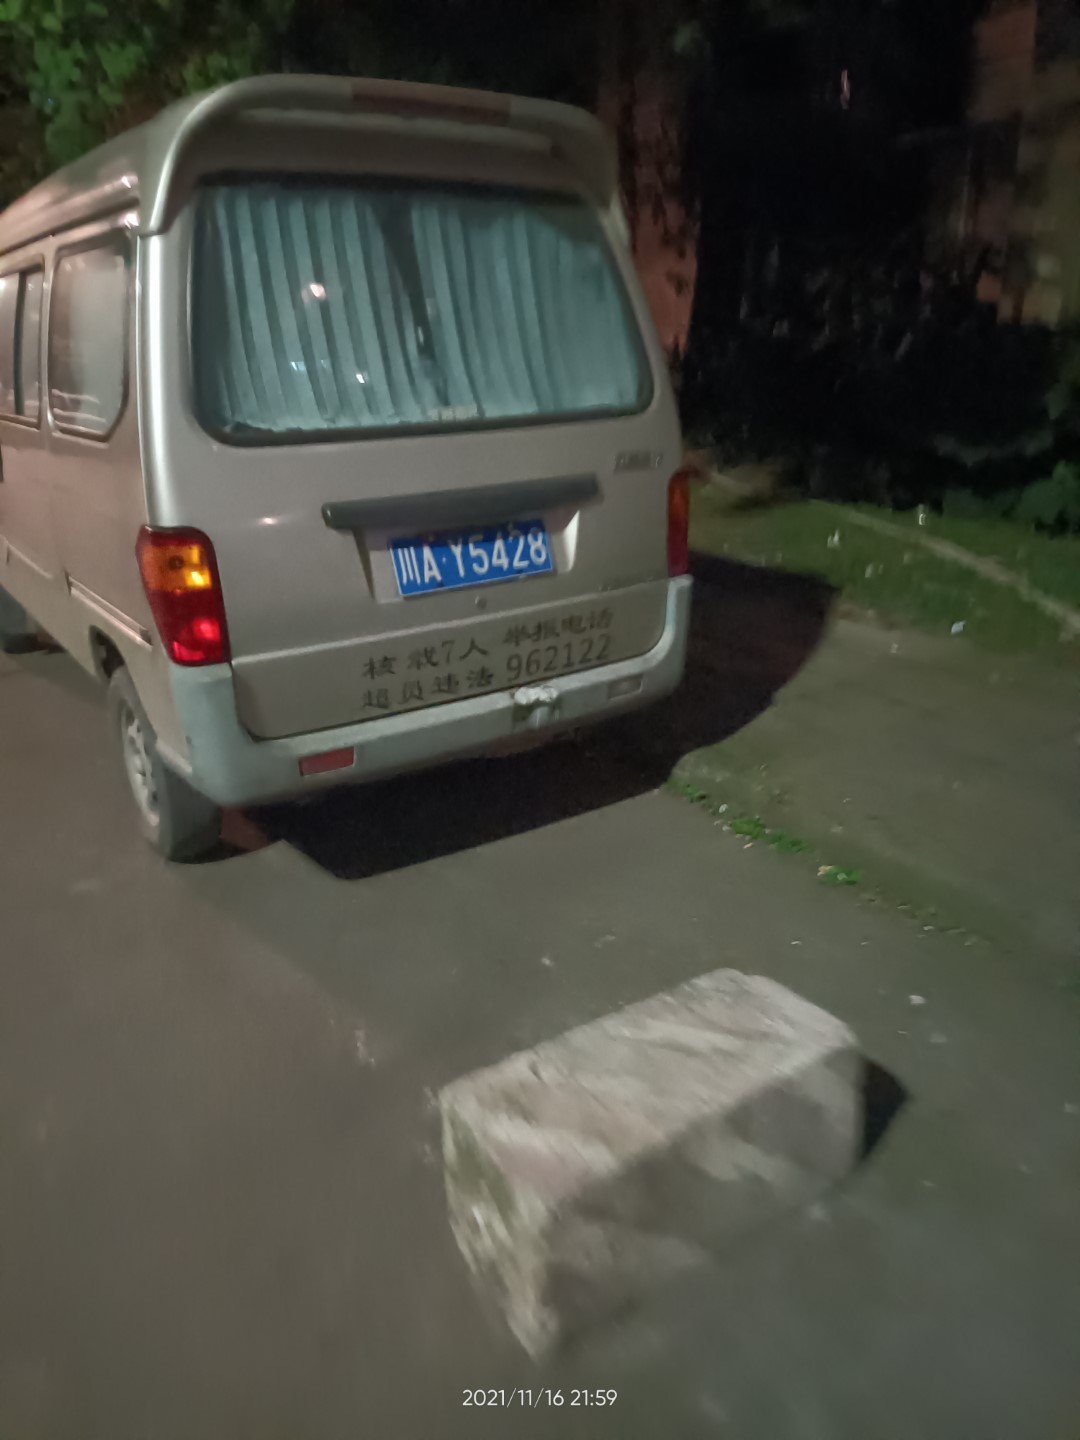plate: (386, 513, 555, 598)
